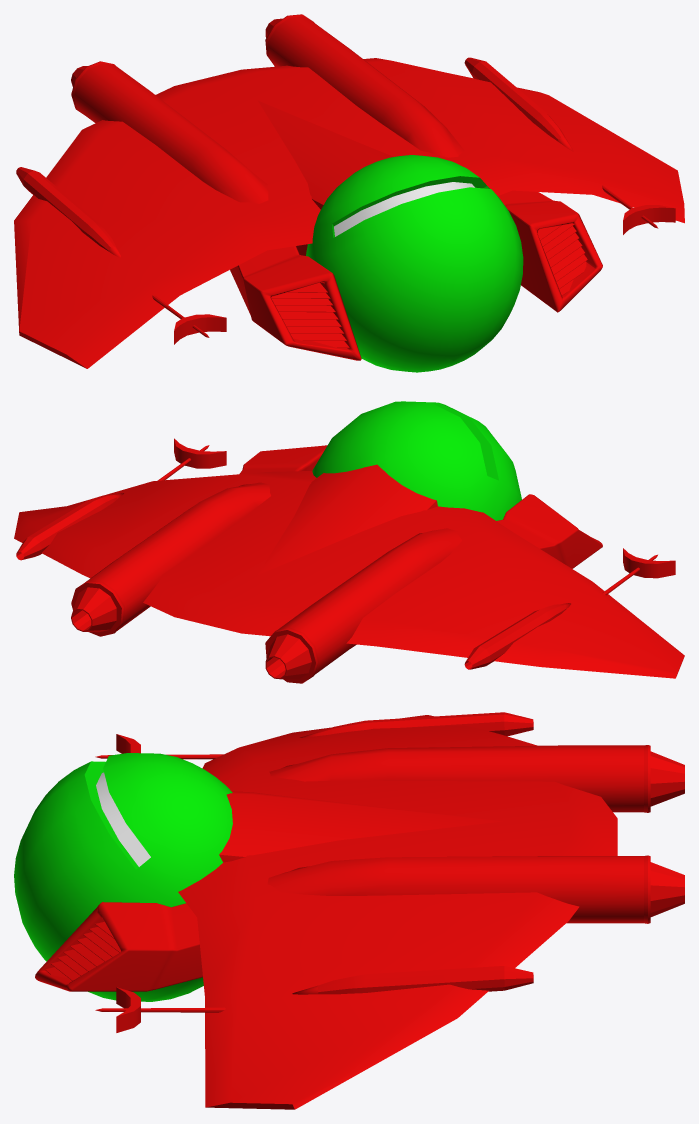
Rendered from ship01.fbx.
The picture shows the model from 3 angles, top to bottom: view 1: azimuth 30°, elevation 25°; view 2: azimuth 150°, elevation 25°; view 3: azimuth 270°, elevation 25°; orthographic projection. The views are drawn at different scales.
Parts seen in each view (by area): view 1: fuselage, cockpit, lasers; view 2: fuselage, cockpit, lasers; view 3: fuselage, cockpit, lasers.
Boxes of the visible parts, x1,y1,x2,y2 form: fuselage: (14, 14, 684, 368); cockpit: (306, 155, 523, 372); lasers: (16, 57, 675, 344); fuselage: (14, 445, 684, 683); cockpit: (312, 401, 521, 520); lasers: (16, 438, 675, 669); fuselage: (35, 715, 684, 1109); cockpit: (14, 753, 232, 1001); lasers: (95, 712, 533, 1032).
Size of the model in its own units: 9.82 by 2.81 by 7.49.
